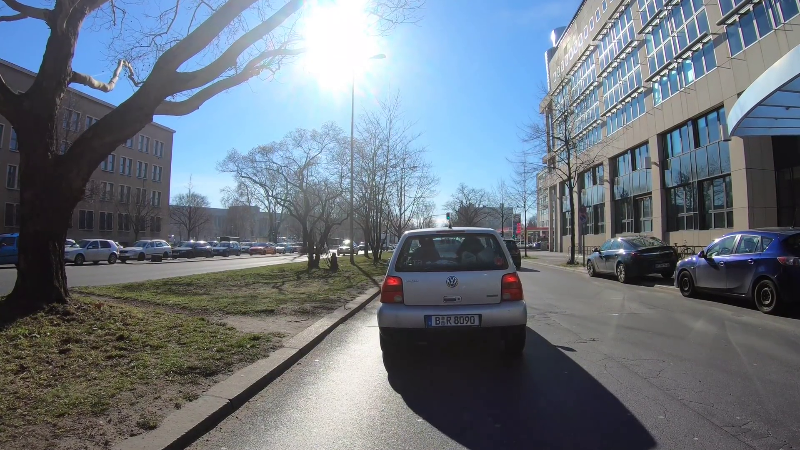Plate: (421, 313, 481, 325), (654, 261, 670, 269)
